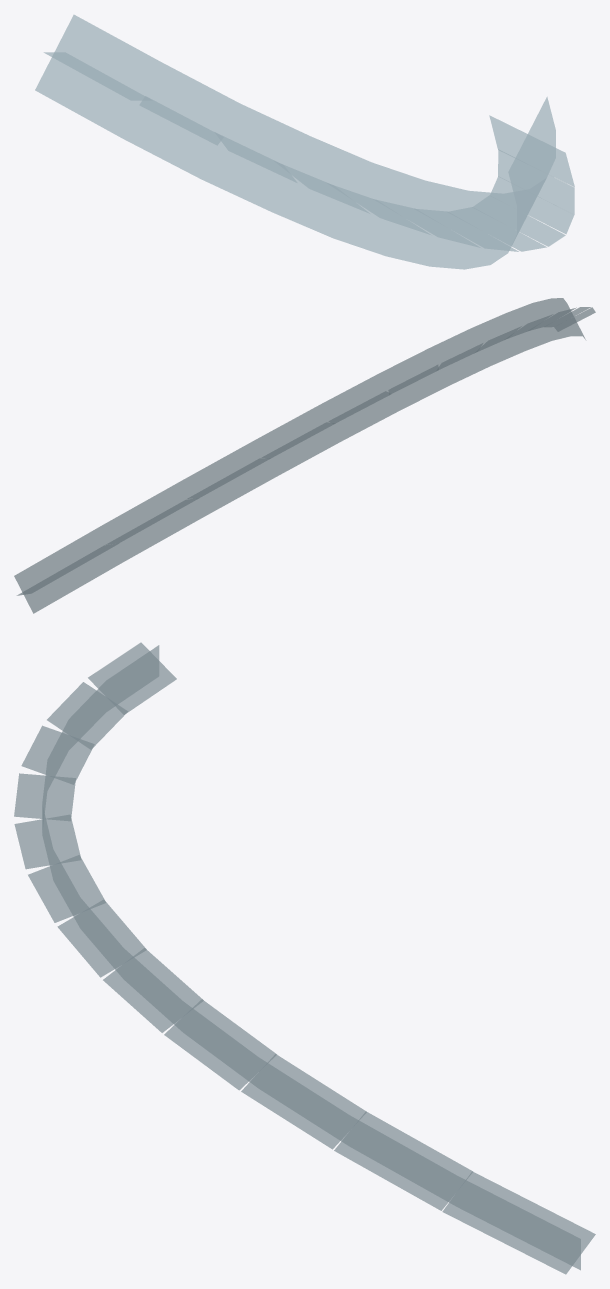
File: wp_water_197.obj
The picture shows the model from 3 angles, top to bottom: view 1: azimuth 30°, elevation 25°; view 2: azimuth 150°, elevation 25°; view 3: azimuth 270°, elevation 25°; orthographic projection. The views are drawn at different scales.
Bounding box in the file's own units: 0.1511 × 0.0983 × 0.1359.
1 material, 1 textured.
